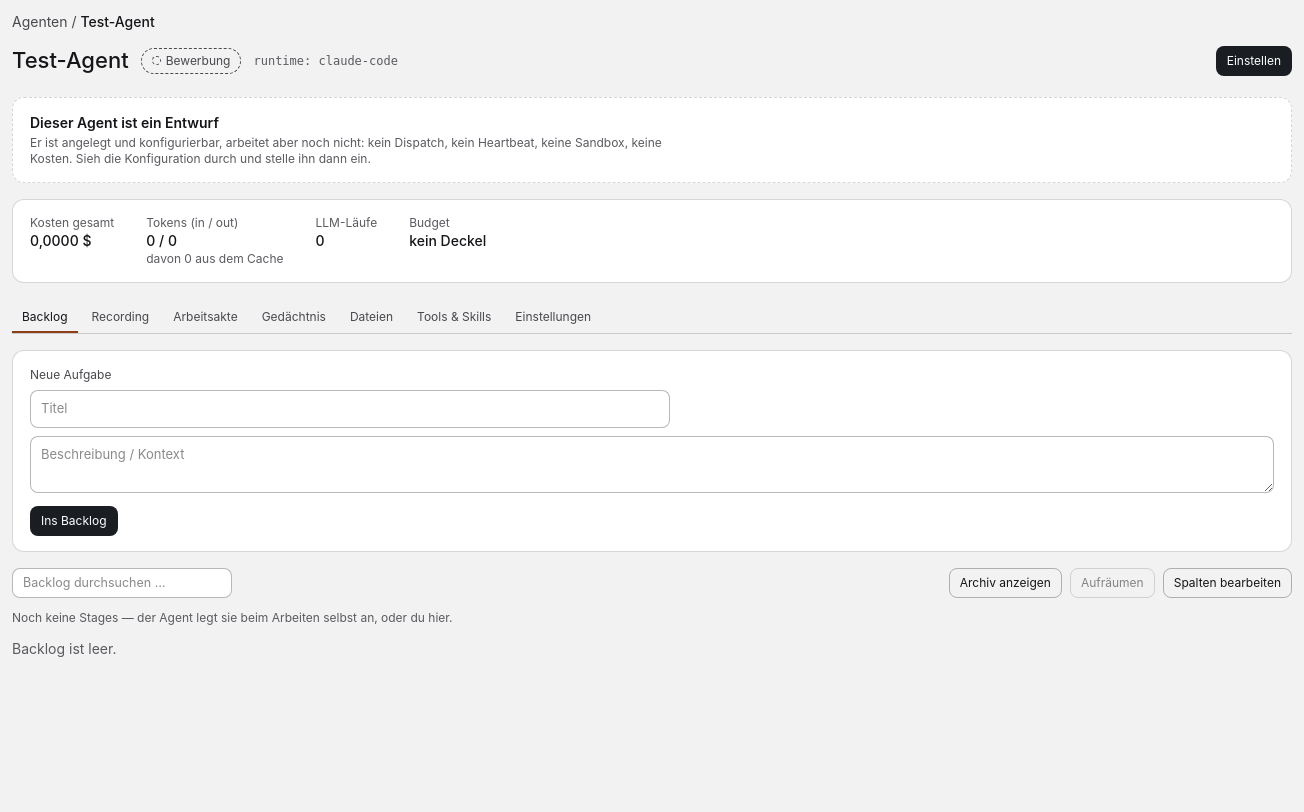
Test: Reiter der Agenten-Seite › wechselt beim Klick den Reiter und schreibt ihn in die URL
Check: the heading "Test-Agent" is shown, box [12, 44, 129, 77]
Click the button "Tools & Skills": (454, 318) [407, 303, 501, 333]
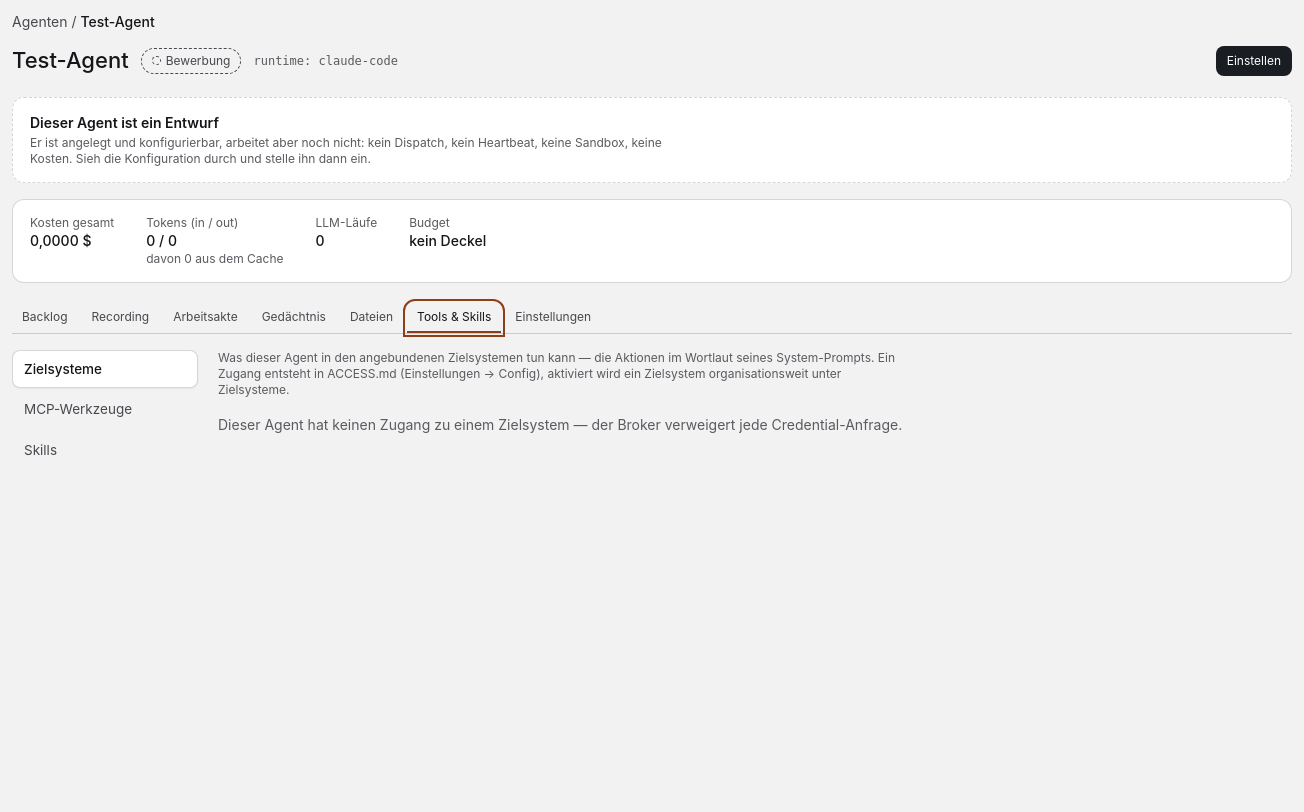
Check: the tab "Zielsysteme" is shown, box [12, 350, 198, 388]
Check: the tab "MCP-Werkzeuge" is shown, box [12, 390, 198, 429]
Check: the tab "Skills" is shown, box [12, 430, 198, 469]
